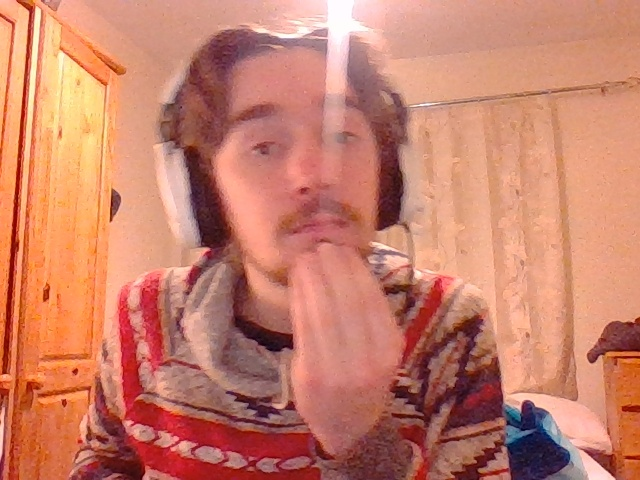thanks: (289, 243, 404, 427)
